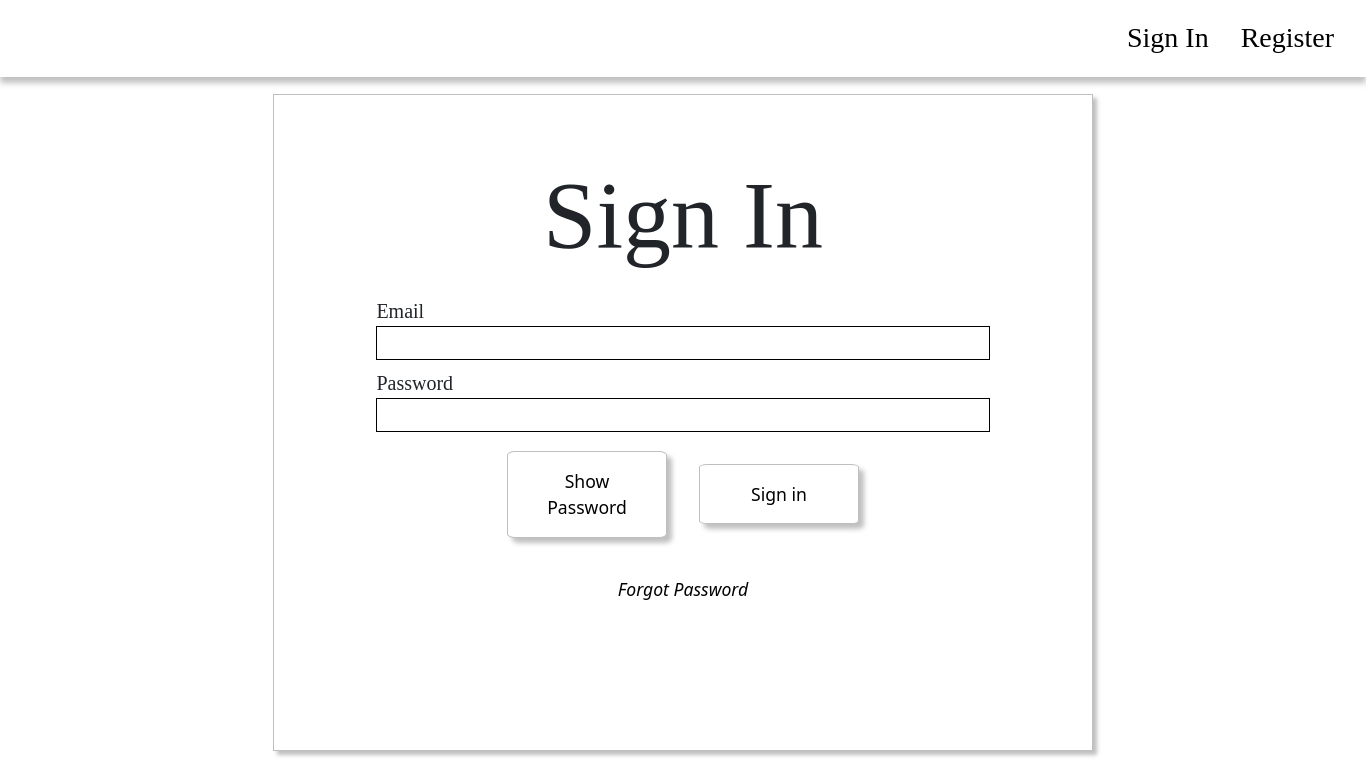
Scenario: <App /> › Valid Flow 1.1: Create Account => land on sign in page click on register link, land on register page
This screenshot has width=1366, height=768.
Click the link named "register_text" at x=1287, y=38, box left=1241, top=22, right=1334, bottom=53
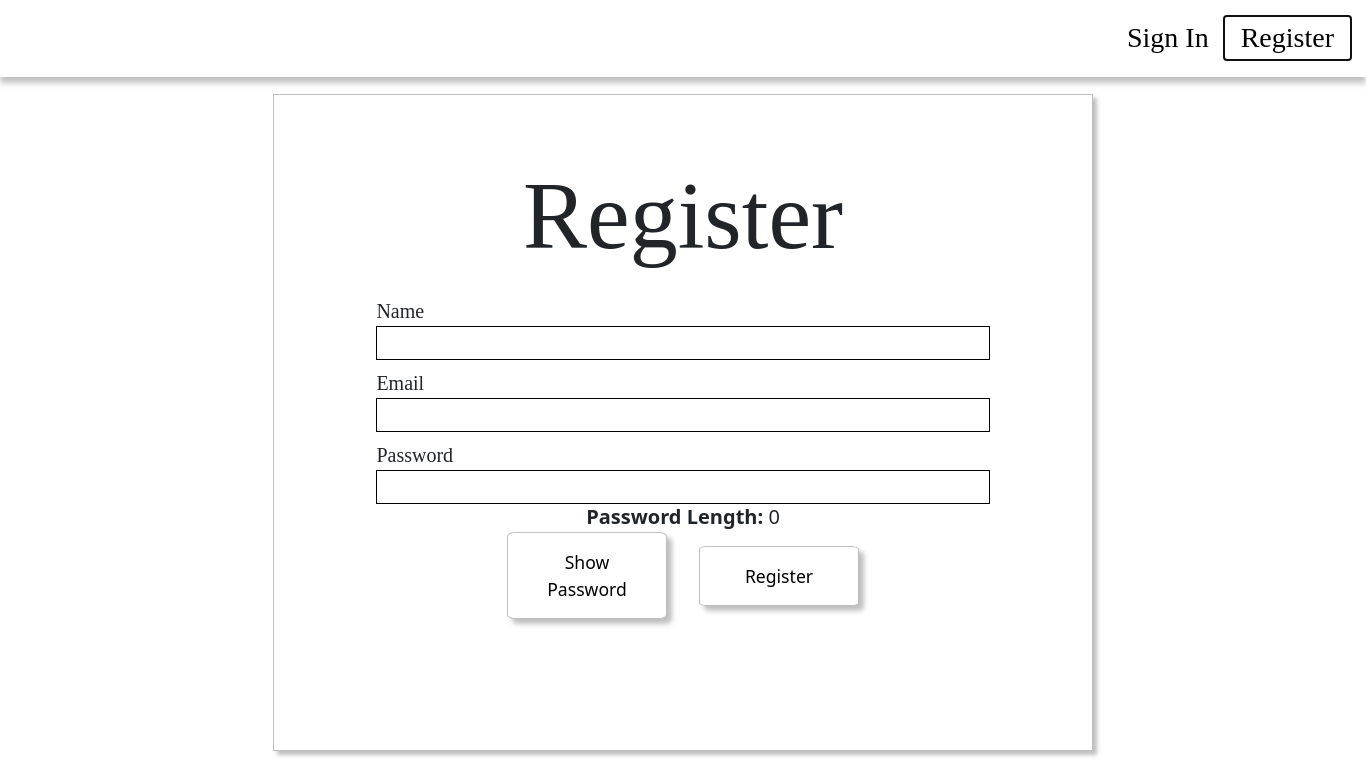
Now the element "Register Name Email Password" is shown, box left=376, top=144, right=990, bottom=499
